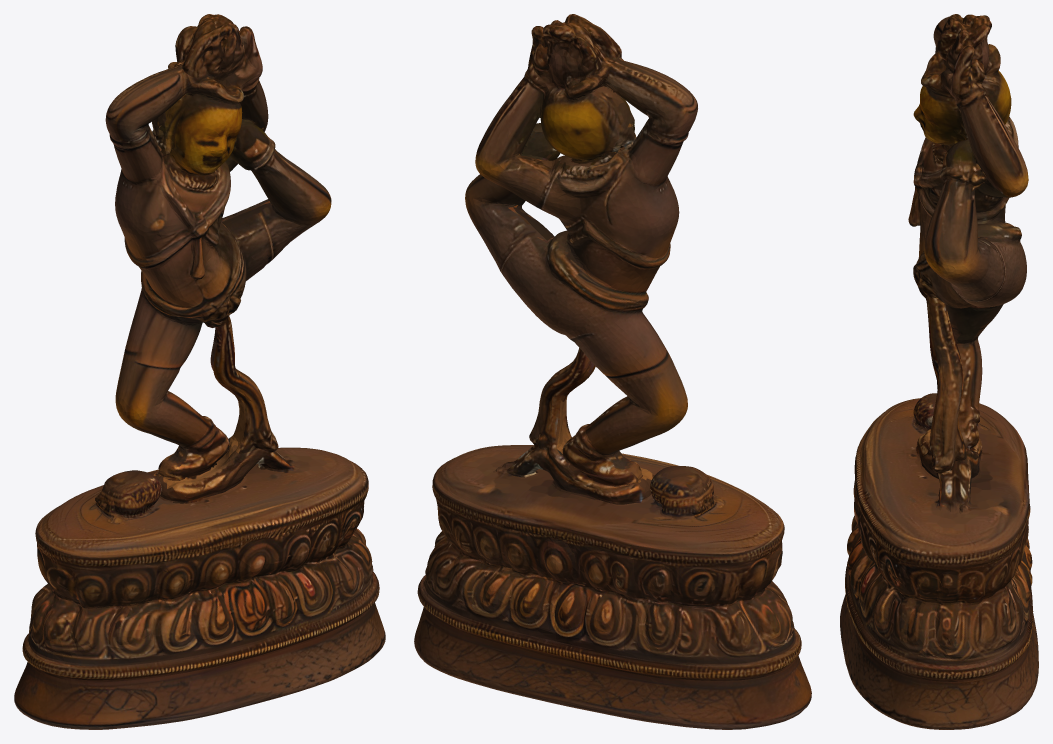
3 renders of one model, left to right at view 1: azimuth 30°, elevation 25°; view 2: azimuth 150°, elevation 25°; view 3: azimuth 270°, elevation 25°, orthographic. The views are drawn at different scales.
Visible parts, largest first — view 1: textured_mesh; view 2: textured_mesh; view 3: textured_mesh.
Part boxes in pixels (x1,y1,x2,y2): textured_mesh: (14,14,385,729); textured_mesh: (414,14,811,729); textured_mesh: (840,14,1038,729).
Bounding box in the file's own units: 1.18 × 1.99 × 0.5595.
1 material, 1 textured.
